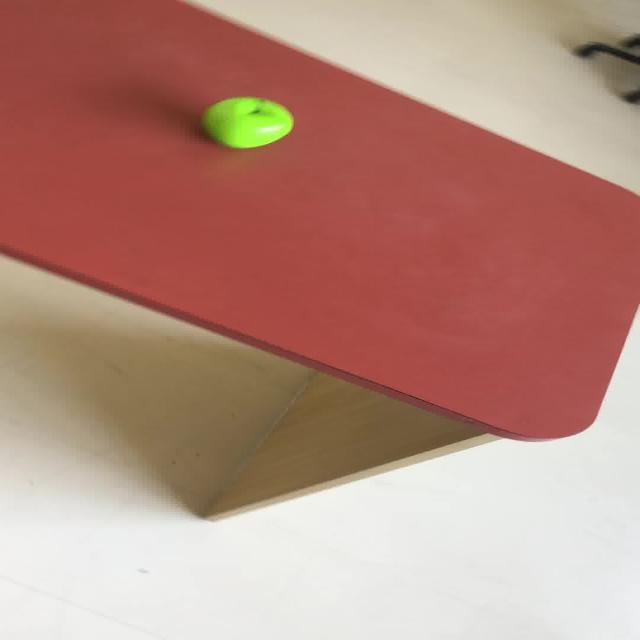apple: (200, 95, 293, 148)
